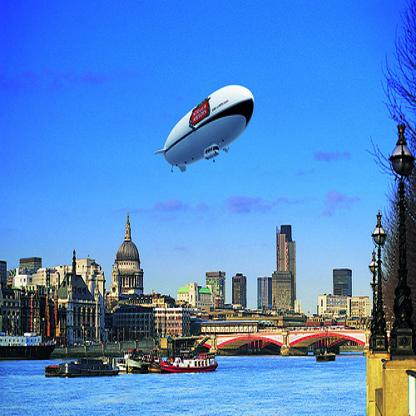Airship: (152, 82, 261, 181)
